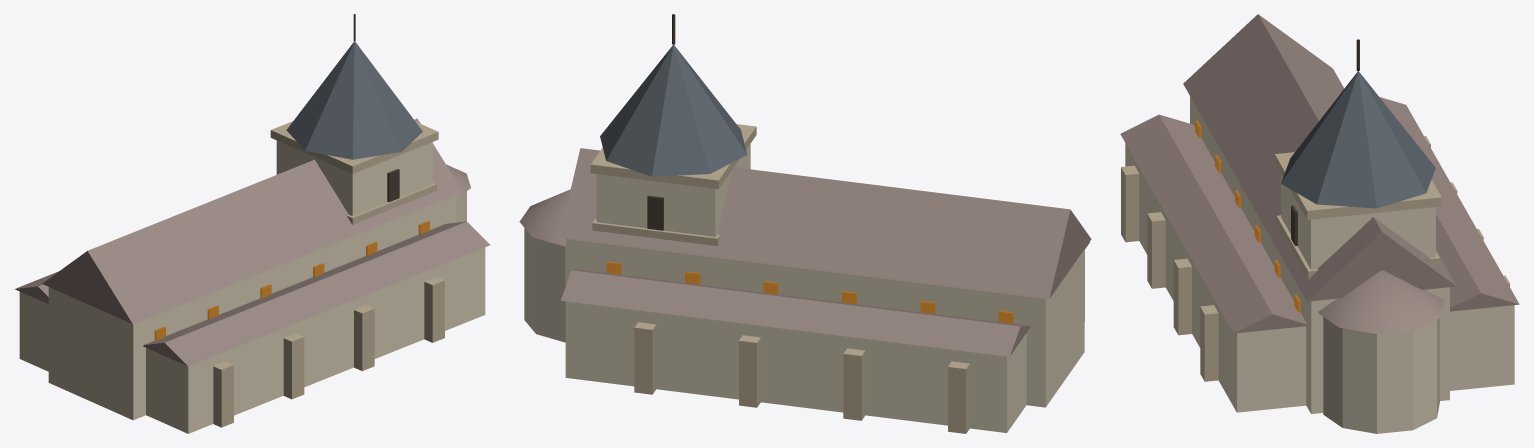
The model's file is nouveau-lieu_v002.glb.
The picture shows the model from 3 angles, left to right: view 1: azimuth 30°, elevation 25°; view 2: azimuth 150°, elevation 25°; view 3: azimuth 270°, elevation 25°; orthographic projection. The views are drawn at different scales.
Visible parts, largest first — view 1: LIEU_nouveau-lieu_v002; view 2: LIEU_nouveau-lieu_v002; view 3: LIEU_nouveau-lieu_v002.
Part boxes in pixels (x1=…): LIEU_nouveau-lieu_v002: x1=14, y1=14, x2=490, y2=433; LIEU_nouveau-lieu_v002: x1=519, y1=14, x2=1091, y2=433; LIEU_nouveau-lieu_v002: x1=1120, y1=14, x2=1519, y2=433.
Bounding box in the file's own units: 42.21 × 25.6 × 28.26.
